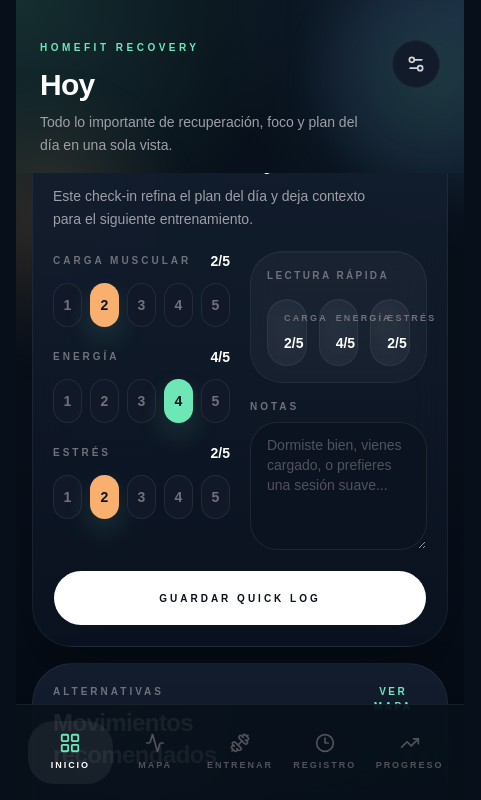
Scenario: App › shows the five-tab shell, saves a quick log and exposes profile backup actions
(page scrolled)
Expected: the heading "Hoy" is shown, [40,68,94,101]
Expected: the button "Inicio" is shown, [28,721,113,784]
Type "Rodillas frescas" into the text box at [338, 486], box [250,422,427,550]
Click the button "Guardar quick log" at [240, 598], box [53,570,427,626]
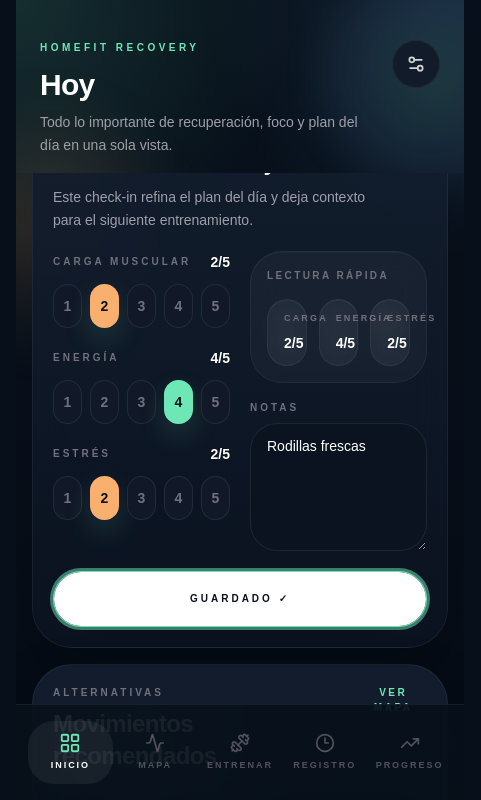
Expected: the text "Guardado ✓" is shown, [190,591,290,606]
Click the button "Registro" at [325, 753], box [282,721,367,784]
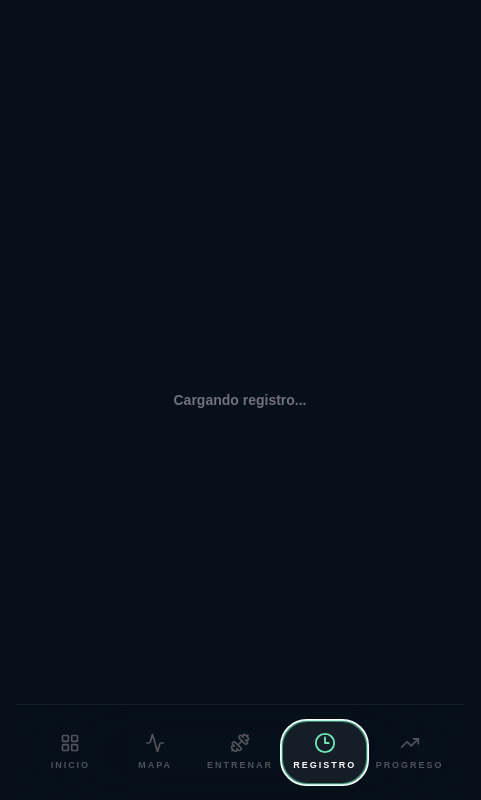
Click the button "Inicio" at [70, 753], box [28,721,113,784]
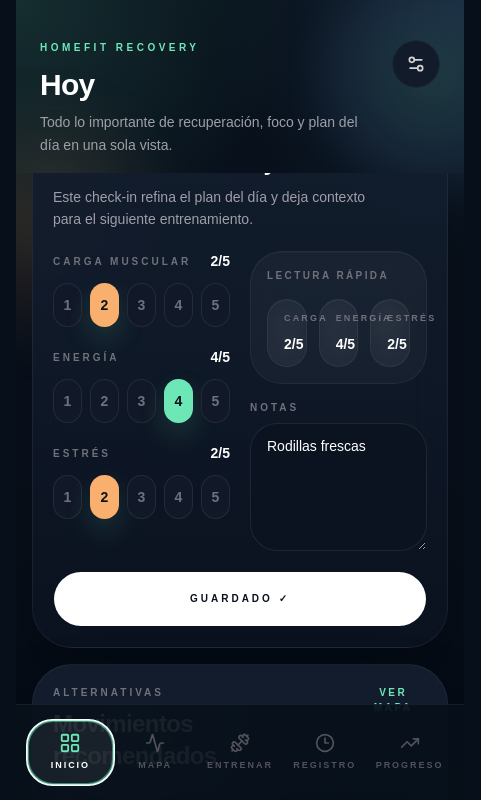
Click the button named "abrir ajustes" at [416, 64], box [392,40,440,88]
(page scrolled)
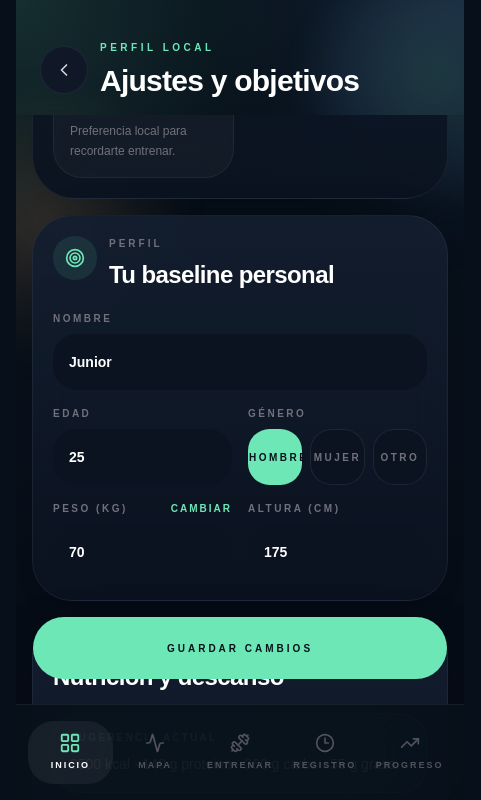
Expected: the button "Inicio" is shown, [28,721,113,784]
Replace the text in the number field named "Edad" with "29" at [142, 457], box [53,429,232,485]
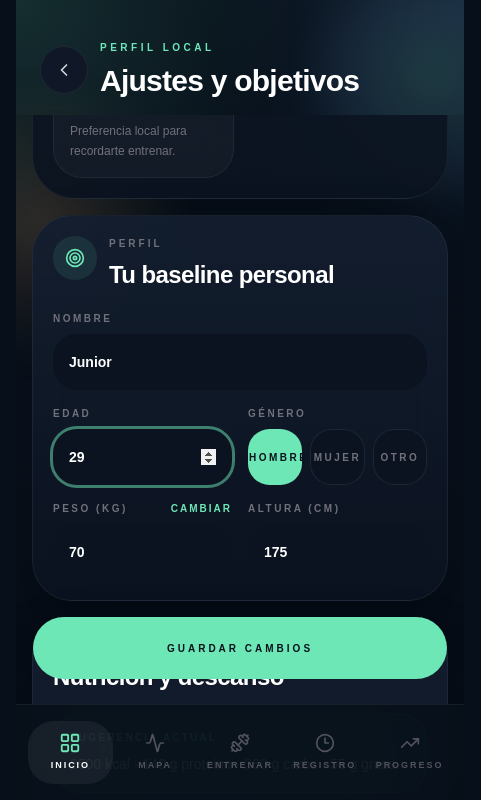
Click the button "Guardar cambios" at [240, 648], box [32,616,448,680]
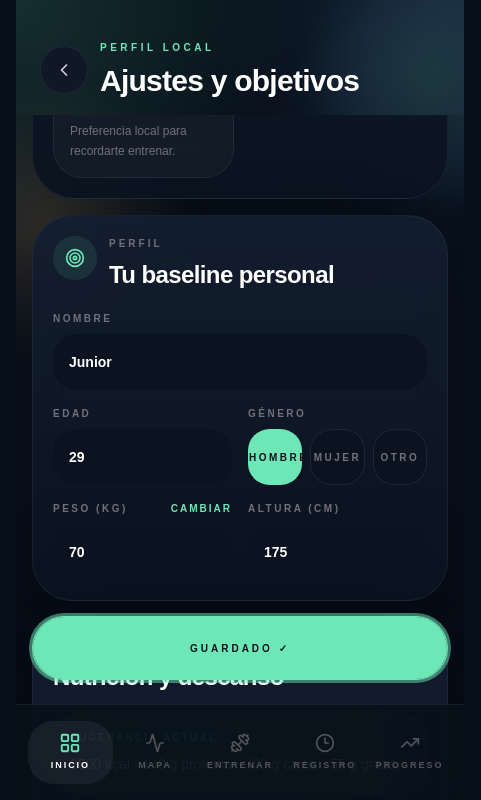
Expected: the text "Guardado ✓" is shown, [190,640,290,656]
